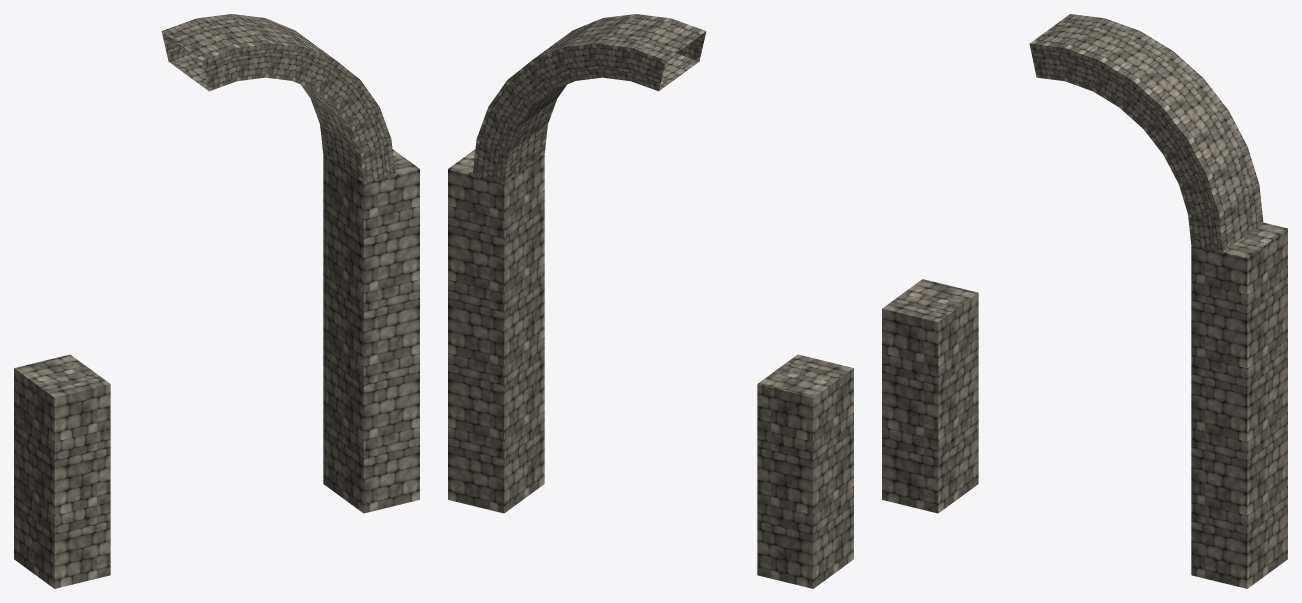
The model's file is Ruin_Wall_2.gltf.
3 views of the same model, side by side, from view 1: azimuth 30°, elevation 25°; view 2: azimuth 150°, elevation 25°; view 3: azimuth 330°, elevation 25° (orthographic).
Visible parts, largest first — view 1: Ruin_Wall_2; view 2: Ruin_Wall_2; view 3: Ruin_Wall_2.
Part boxes in pixels (x1=…): Ruin_Wall_2: x1=14, y1=14, x2=419, y2=588; Ruin_Wall_2: x1=448, y1=14, x2=853, y2=588; Ruin_Wall_2: x1=882, y1=14, x2=1287, y2=588.
Bounding box in the file's own units: 5.2 × 6.75 × 1.
Materials: 1 (1 with a texture image).
